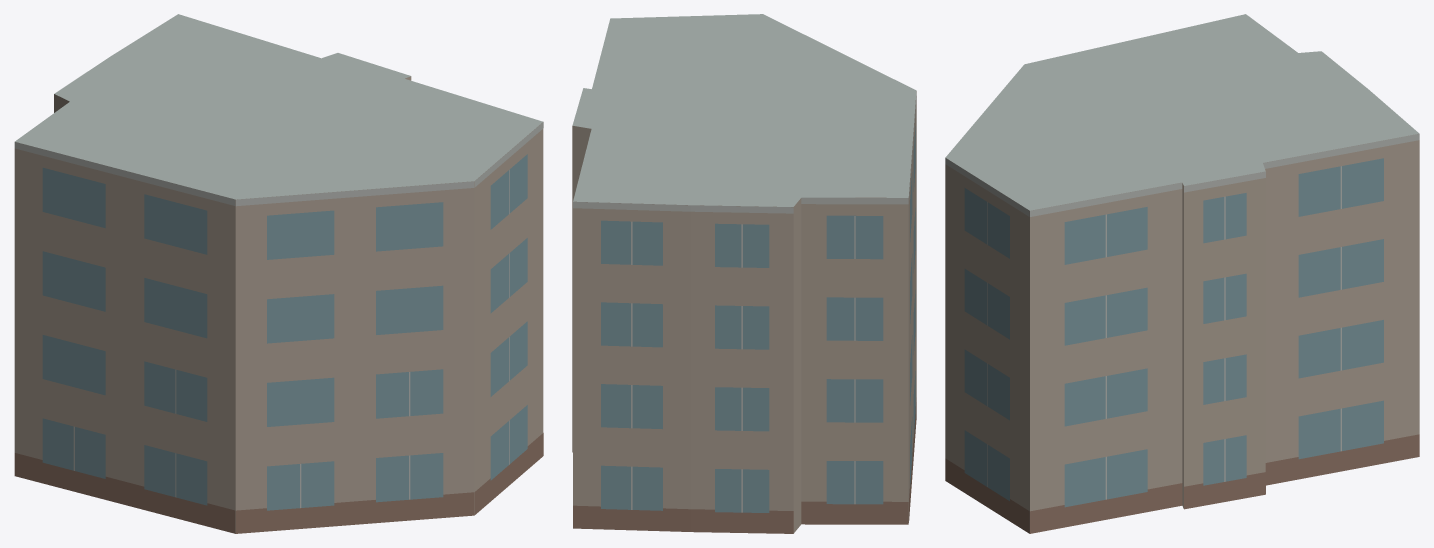
The model's file is survey-upis-32959726.glb.
3 views of the same model, side by side, from view 1: azimuth 30°, elevation 25°; view 2: azimuth 150°, elevation 25°; view 3: azimuth 270°, elevation 25° (orthographic). The views are drawn at different scales.
Visible parts, largest first — view 1: survey-upis-32959726.tmp; view 2: survey-upis-32959726.tmp; view 3: survey-upis-32959726.tmp.
Part boxes in pixels (left/top/right/bottom): survey-upis-32959726.tmp: left=14, top=14, right=543, bottom=533; survey-upis-32959726.tmp: left=572, top=14, right=916, bottom=533; survey-upis-32959726.tmp: left=945, top=14, right=1419, bottom=533.
Size of the model in its own units: 15.94 by 12.2 by 16.24.
